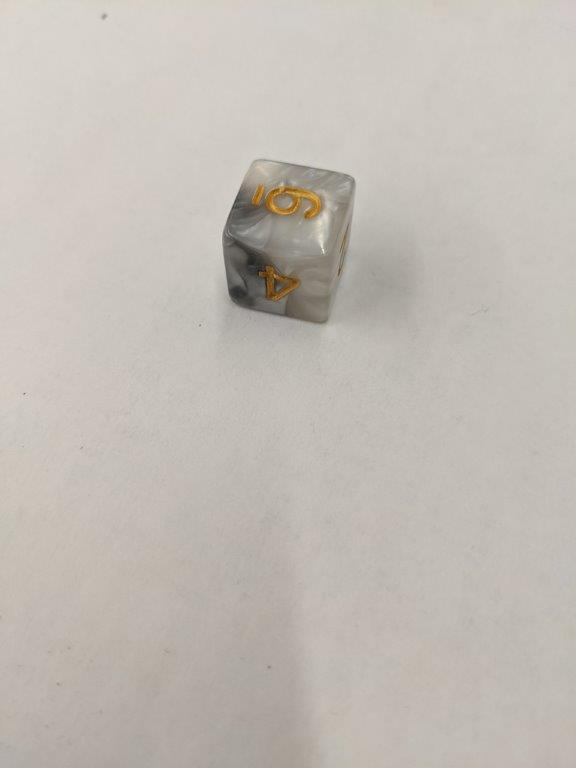d6-6: (223, 156, 358, 323)
